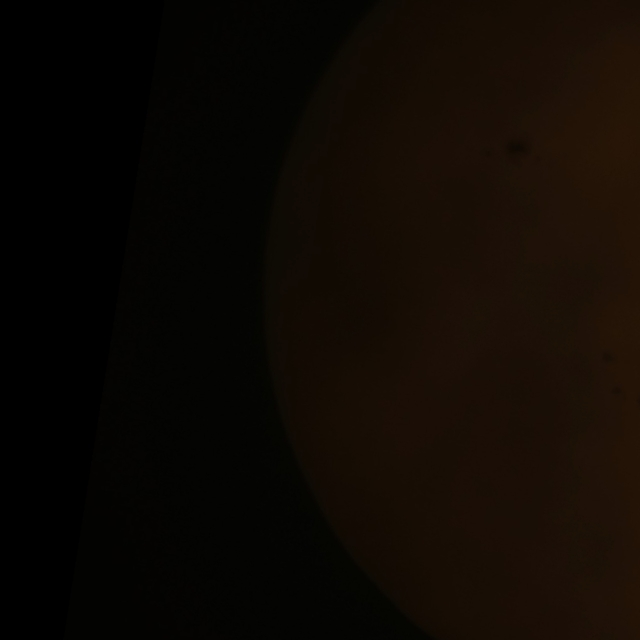sunspot: (479, 124, 540, 175)
